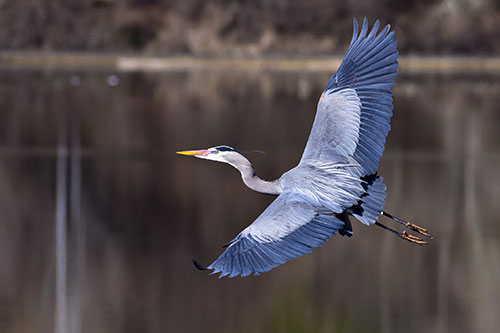heron: (176, 12, 441, 279)
